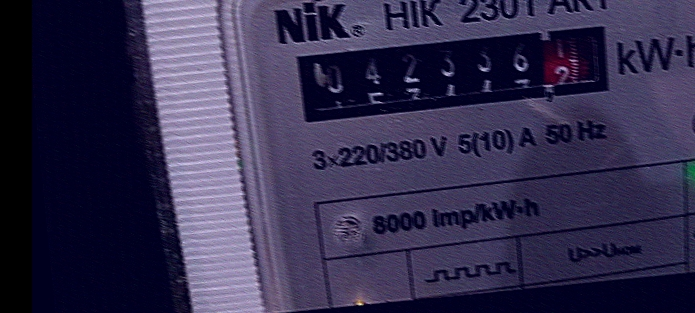0: (323, 62, 345, 96)
1: (552, 34, 566, 61)
2: (399, 50, 423, 86), (552, 65, 571, 87)
3: (435, 46, 456, 79), (474, 42, 494, 76)
4: (363, 54, 383, 88)
6: (509, 40, 532, 76)
screen: (283, 12, 626, 135)
